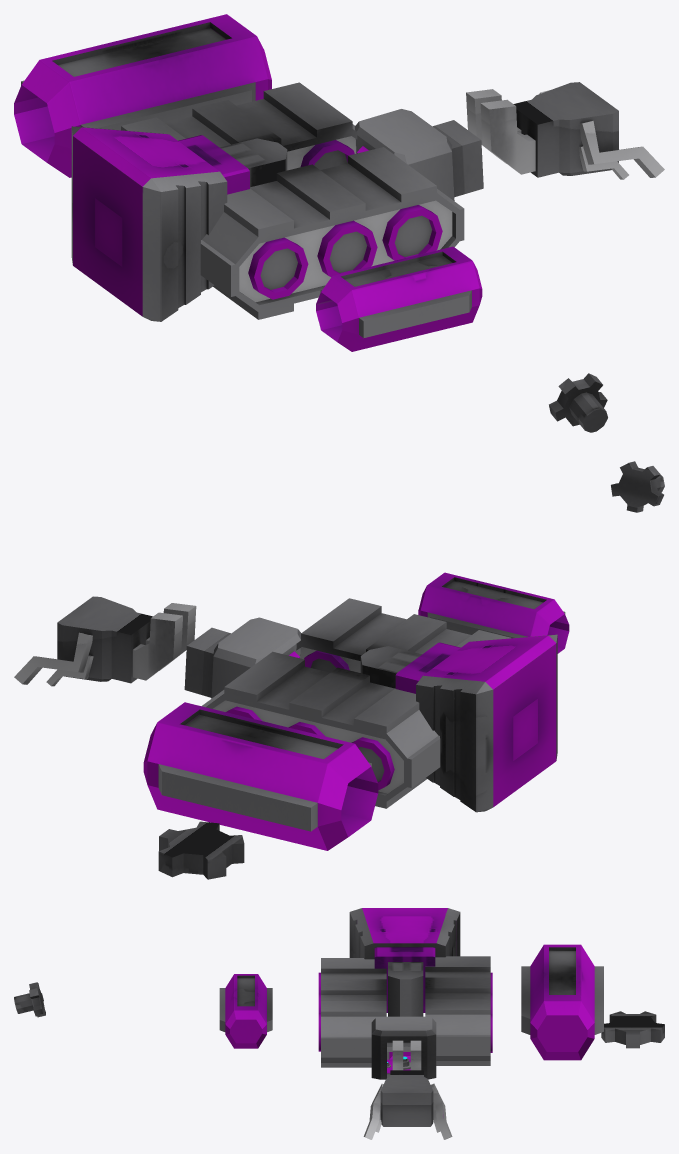
The model's file is Enemy2_Die38.obj.
3 views of the same model, one above another, from view 1: azimuth 30°, elevation 25°; view 2: azimuth 150°, elevation 25°; view 3: azimuth 270°, elevation 25° (orthographic). The views are drawn at different scales.
Parts seen in each view (by area): view 1: Object006, Object013, Object011, Object014, Object010, Object012, Object008; view 2: Object011, Object006, Object013, Object010, Object014, Object012, Object009, Object008; view 3: Object006, Object011, Object013, Object010, Object014, Object012, Object009, Object008.
Part boxes in pixels (<box>): Object006: <box>121,82,464,319</box>; Object013: <box>71,126,287,321</box>; Object011: <box>14,14,271,177</box>; Object014: <box>316,246,482,351</box>; Object010: <box>466,82,664,179</box>; Object012: <box>355,109,483,200</box>; Object008: <box>549,373,607,432</box>; Object011: <box>143,702,378,850</box>; Object006: <box>201,598,510,808</box>; Object013: <box>360,634,557,812</box>; Object010: <box>14,596,196,686</box>; Object014: <box>418,572,569,653</box>; Object012: <box>184,617,300,698</box>; Object009: <box>158,821,244,879</box>; Object008: <box>611,461,664,512</box>; Object006: <box>318,956,492,1067</box>; Object011: <box>521,944,603,1060</box>; Object013: <box>349,908,460,1016</box>; Object010: <box>363,1040,452,1139</box>; Object014: <box>219,974,272,1048</box>; Object012: <box>371,1016,436,1079</box>; Object009: <box>601,1011,664,1048</box>; Object008: <box>14,982,45,1017</box>.
Bounding box in the file's own units: 196 × 50.77 × 340.
